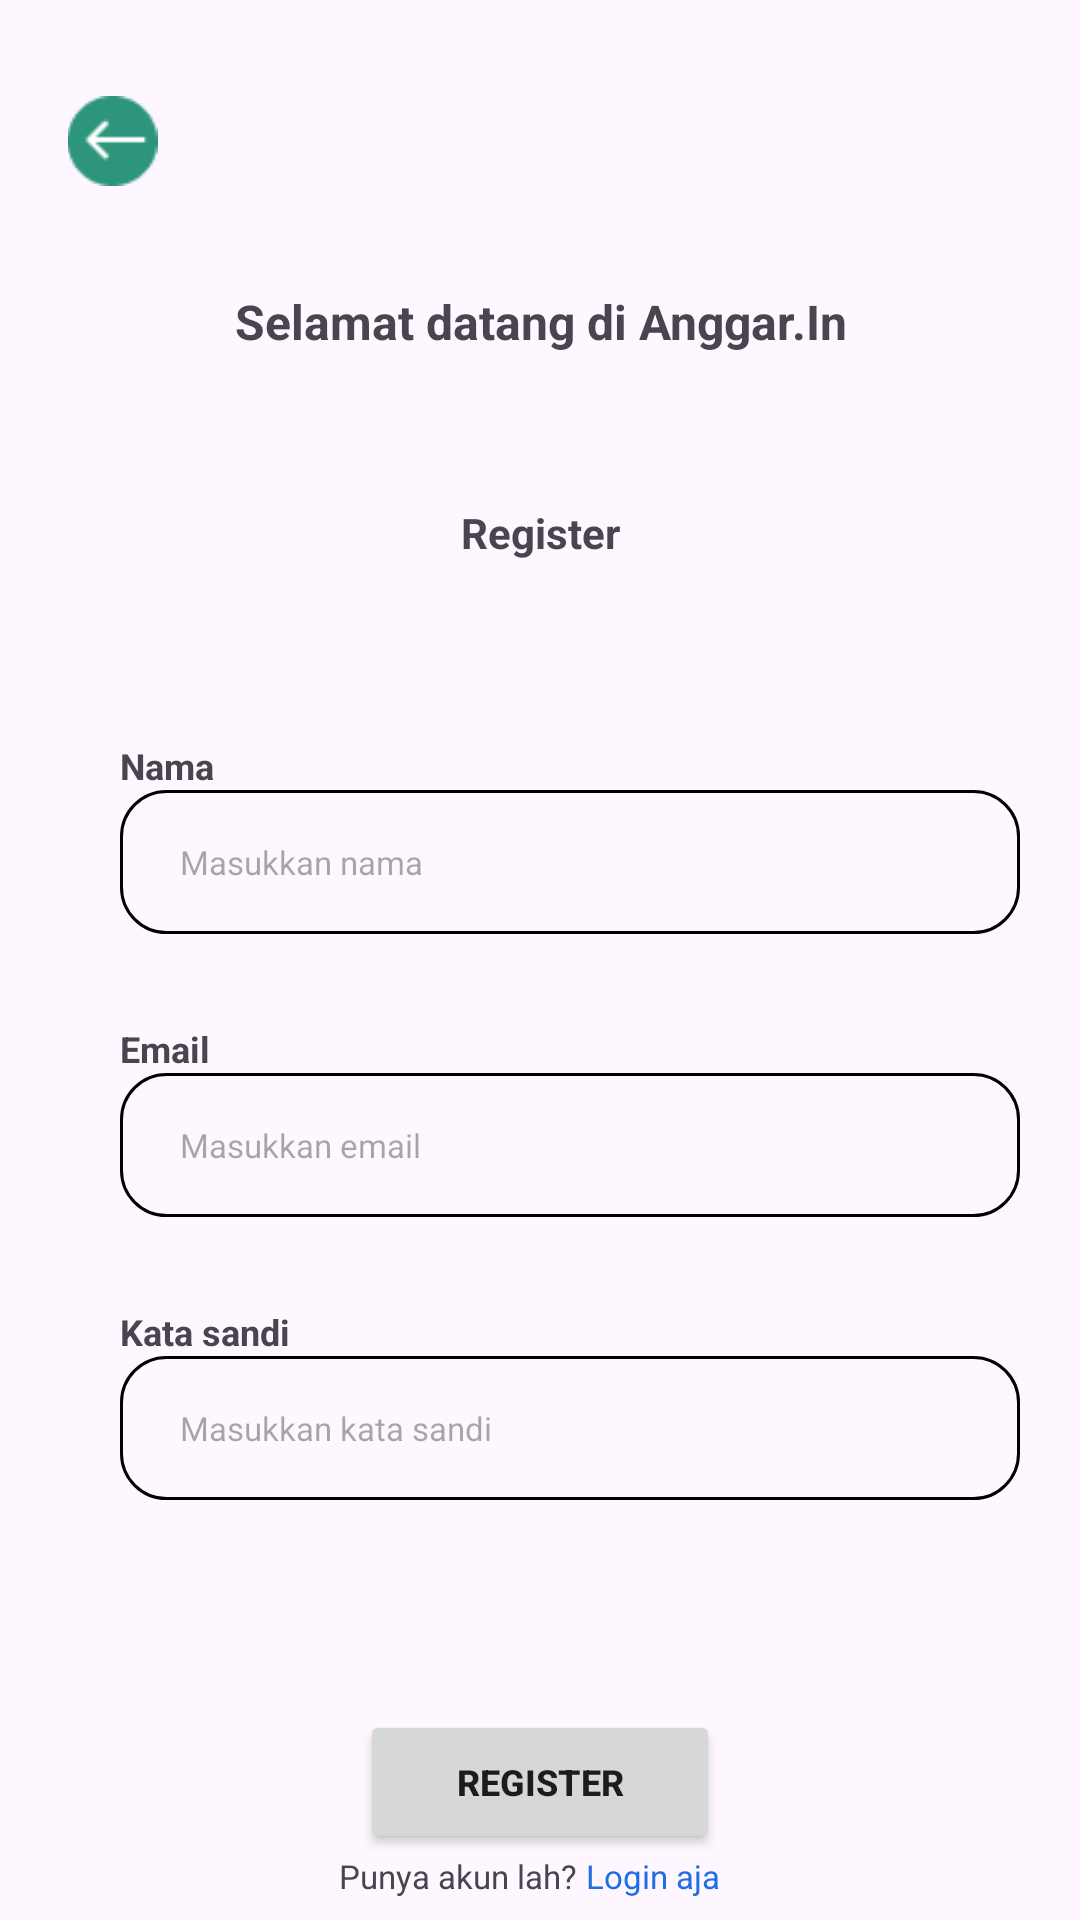

Where to tap for icons on this 1080x1920 app screen, as (x,y):
back: (113,141)
